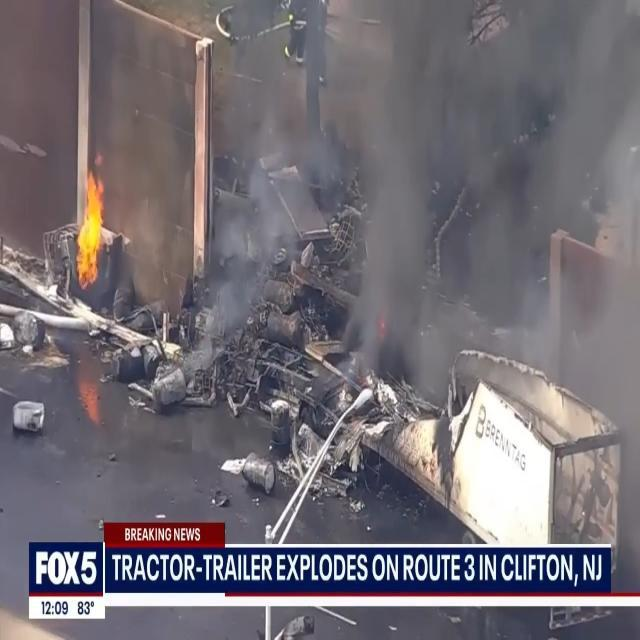fire: (70, 178, 108, 288)
